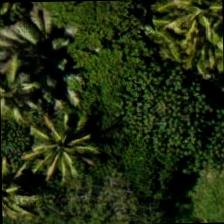Kelapa_Sawit: (20, 108, 112, 200), (0, 42, 60, 134), (154, 0, 223, 49)
